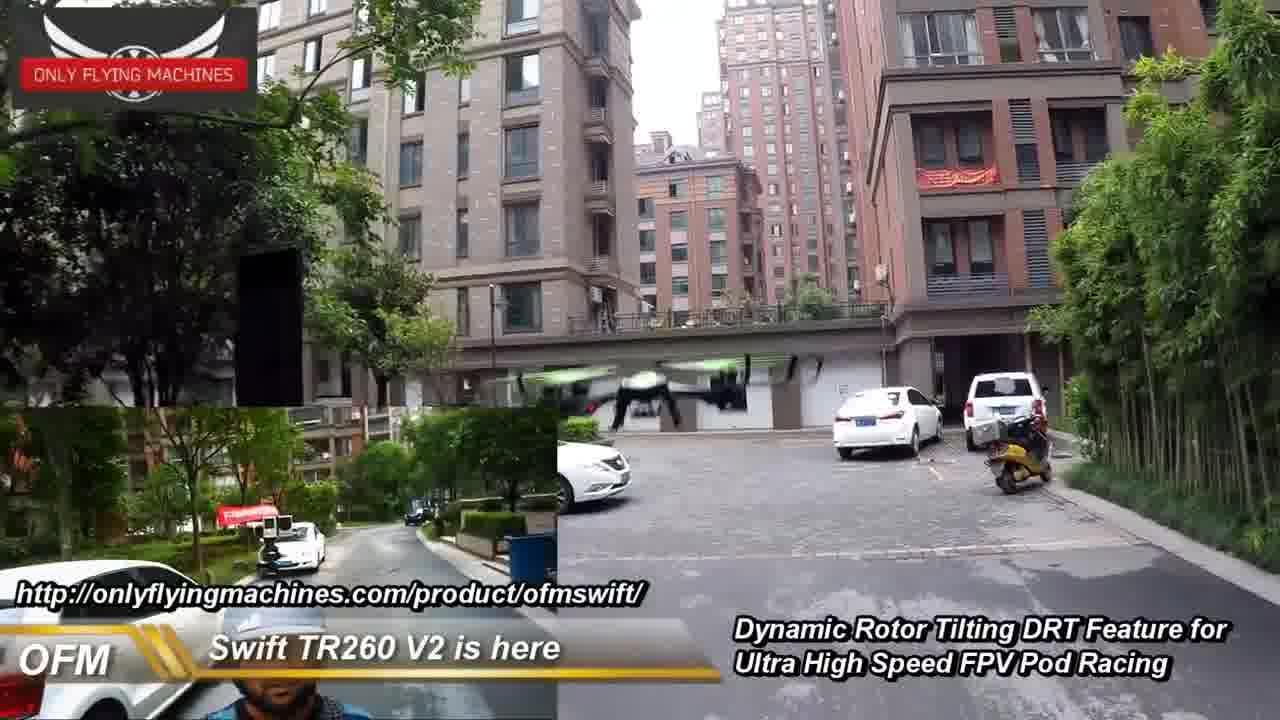drone: (527, 339, 823, 437)
